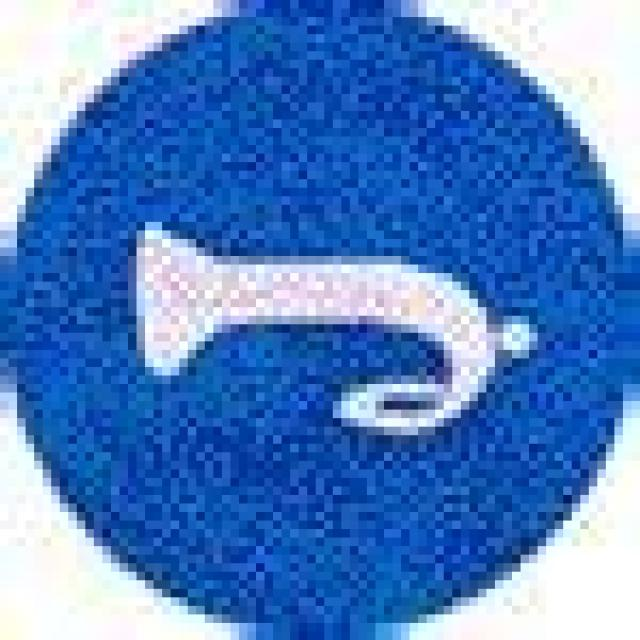compulsory_min_speed: (0, 0, 631, 631)
